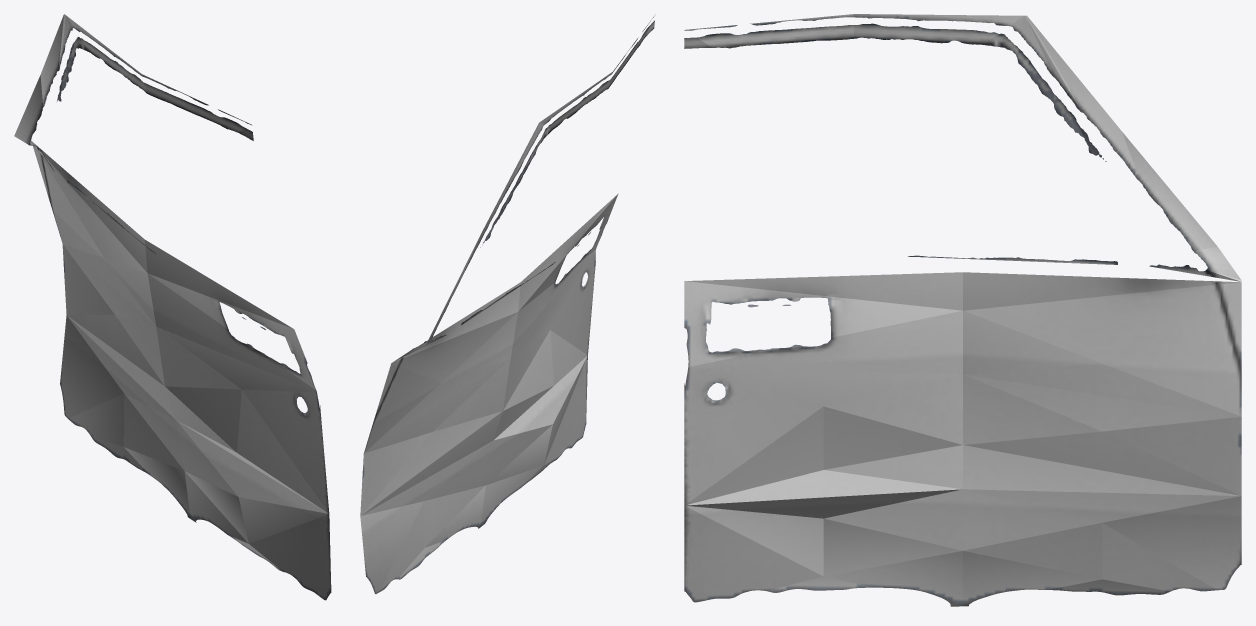
File: SM_AbandonedCar_Door_FR_Broken.fbx
The picture shows the model from 3 angles, left to right: view 1: azimuth 30°, elevation 25°; view 2: azimuth 150°, elevation 25°; view 3: azimuth 270°, elevation 25°; orthographic projection. The views are drawn at different scales.
Visible parts, largest first — view 1: SM_AbandonedCar_Door_FR_Broken; view 2: SM_AbandonedCar_Door_FR_Broken; view 3: SM_AbandonedCar_Door_FR_Broken.
Part boxes in pixels (x1,y1,x2,y2): SM_AbandonedCar_Door_FR_Broken: [14, 14, 331, 600]; SM_AbandonedCar_Door_FR_Broken: [360, 14, 655, 593]; SM_AbandonedCar_Door_FR_Broken: [684, 14, 1241, 606].
Size of the model in its own units: 22.85 by 99.5 by 93.
